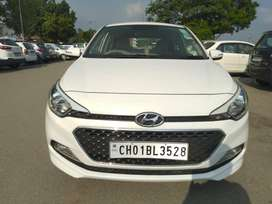CH01BL3528: (109, 140, 189, 160)
